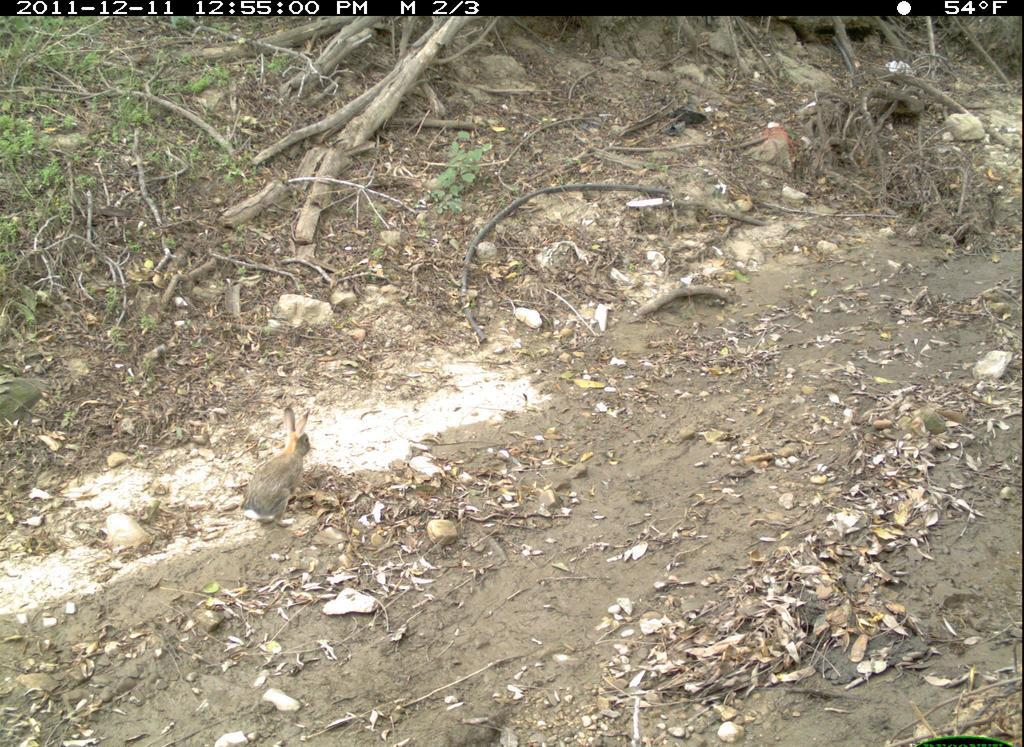rabbit: (239, 404, 331, 533)
